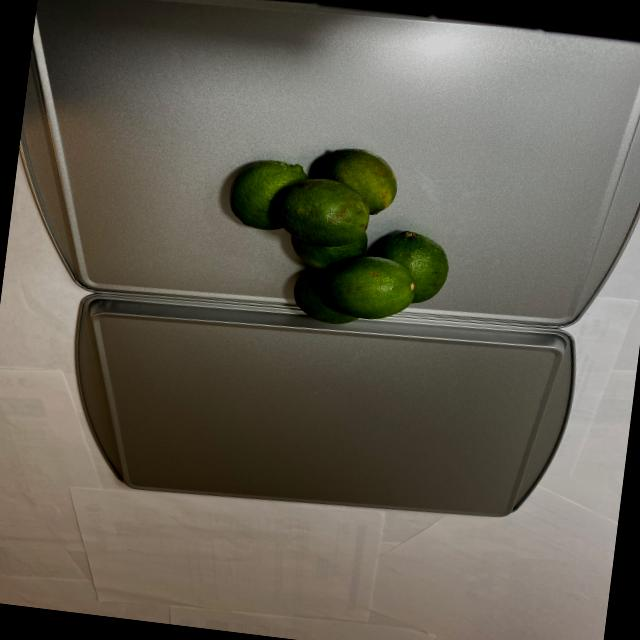lemon: (209, 126, 476, 341)
